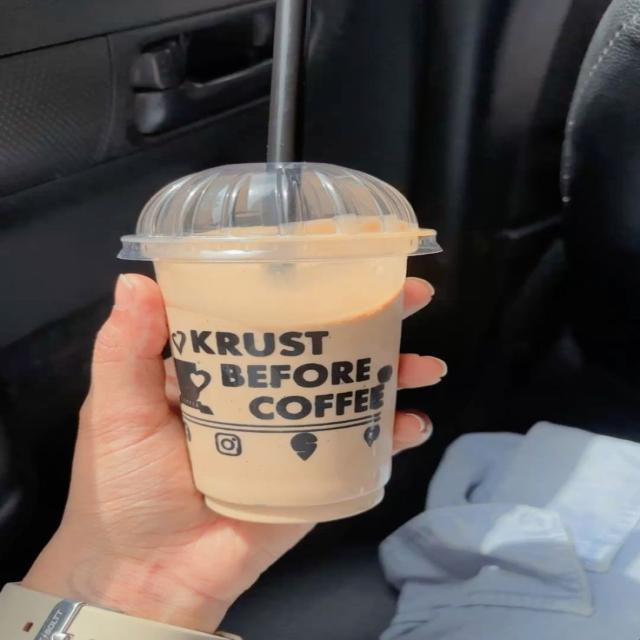plastic cup: (119, 158, 442, 522)
